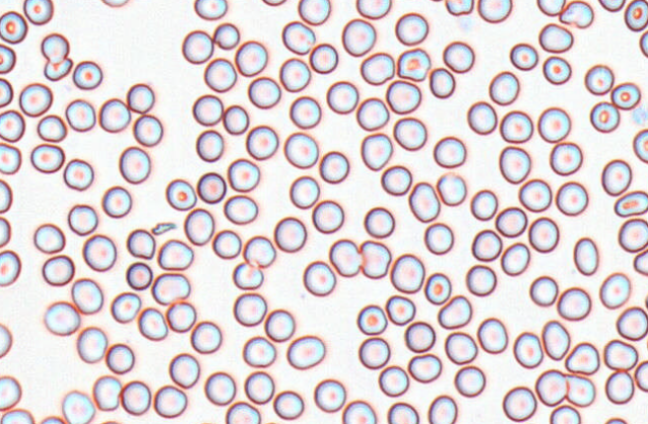RBC: (286, 334, 325, 369), (390, 253, 424, 293), (341, 18, 376, 56), (408, 181, 440, 222), (283, 131, 318, 168), (151, 272, 190, 305), (44, 300, 80, 335), (385, 79, 421, 114), (502, 385, 536, 422), (82, 234, 116, 271), (537, 106, 571, 143), (534, 368, 567, 406), (328, 238, 361, 276), (498, 145, 531, 183), (118, 145, 150, 184), (437, 294, 472, 329), (556, 286, 591, 321), (302, 260, 336, 296), (359, 240, 391, 278), (360, 132, 392, 170), (564, 341, 599, 375), (203, 57, 237, 92), (359, 51, 394, 85), (18, 82, 52, 117), (541, 319, 570, 360), (273, 216, 306, 252), (245, 124, 278, 160), (234, 40, 267, 76), (71, 277, 103, 314), (183, 207, 214, 245), (601, 158, 632, 196), (153, 384, 187, 418), (233, 292, 267, 326), (396, 47, 430, 81), (281, 20, 315, 54), (518, 178, 552, 212), (603, 338, 638, 371), (356, 96, 389, 131), (555, 181, 588, 216), (476, 317, 508, 353), (157, 238, 193, 270), (76, 326, 107, 363), (599, 272, 630, 309), (61, 390, 95, 423), (311, 199, 344, 233), (394, 12, 428, 45), (499, 110, 533, 143), (227, 158, 260, 192), (393, 116, 426, 150), (247, 76, 281, 109), (549, 141, 582, 175), (615, 306, 647, 341), (181, 29, 213, 64), (98, 97, 130, 132), (168, 352, 199, 388), (528, 216, 559, 252), (513, 331, 543, 368), (444, 331, 477, 364), (243, 235, 276, 268), (433, 135, 466, 168), (242, 335, 276, 367), (313, 378, 345, 412), (204, 371, 236, 405), (326, 80, 358, 114), (289, 95, 321, 129), (120, 380, 151, 415), (538, 22, 573, 53), (488, 70, 519, 105), (279, 57, 310, 92), (358, 336, 390, 369), (442, 40, 474, 73), (466, 100, 497, 134), (223, 194, 258, 224), (617, 217, 647, 252), (92, 375, 121, 411), (403, 320, 435, 352), (453, 365, 485, 397), (363, 206, 395, 238), (42, 254, 74, 286), (264, 308, 295, 341), (471, 228, 502, 261), (190, 320, 221, 353), (132, 113, 163, 146), (101, 185, 132, 218), (407, 353, 441, 383), (436, 172, 466, 206), (244, 370, 274, 404), (604, 370, 634, 404), (289, 175, 319, 209), (500, 242, 530, 276), (30, 143, 64, 173), (65, 98, 95, 132), (573, 236, 599, 275), (378, 365, 409, 397), (165, 300, 196, 332), (465, 264, 496, 296), (110, 291, 141, 323), (380, 164, 412, 195), (165, 178, 196, 210), (495, 206, 527, 237), (67, 203, 98, 235), (192, 94, 223, 126), (589, 101, 620, 133), (565, 374, 595, 407), (137, 307, 167, 340), (319, 150, 349, 183), (356, 304, 387, 335), (423, 222, 453, 254), (196, 171, 226, 203), (33, 223, 65, 253), (584, 63, 614, 95), (63, 158, 93, 190), (195, 129, 224, 162), (559, 0, 593, 28), (385, 294, 415, 325), (272, 390, 304, 419), (613, 190, 647, 217), (211, 229, 241, 259), (72, 60, 102, 90), (40, 32, 69, 63), (232, 261, 263, 290), (105, 343, 134, 374), (126, 228, 155, 259), (529, 275, 558, 306), (309, 42, 338, 73), (610, 81, 641, 110), (470, 188, 498, 220), (0, 10, 27, 43), (427, 394, 457, 423), (126, 82, 154, 113), (424, 272, 451, 304), (542, 55, 571, 84), (341, 399, 376, 423), (36, 114, 66, 142), (429, 66, 455, 98), (0, 109, 25, 142), (297, 0, 330, 25), (509, 42, 538, 70), (222, 104, 249, 134), (477, 0, 512, 23), (125, 261, 152, 290), (0, 249, 21, 286), (225, 401, 260, 423), (212, 22, 239, 50), (23, 0, 53, 25), (0, 375, 21, 410), (624, 0, 647, 31), (386, 401, 418, 423), (355, 0, 391, 19), (193, 0, 227, 20), (0, 142, 21, 174), (549, 404, 580, 423), (632, 128, 647, 163), (0, 408, 34, 423), (0, 43, 16, 73), (536, 0, 565, 16), (444, 0, 473, 15), (634, 359, 647, 392), (0, 322, 12, 357), (0, 179, 12, 213), (0, 77, 13, 107), (630, 104, 647, 126), (633, 249, 647, 275), (0, 216, 11, 247), (598, 0, 625, 12), (639, 29, 647, 57), (100, 0, 129, 7), (40, 415, 65, 423), (604, 416, 627, 423), (261, 0, 286, 6), (99, 419, 122, 423), (644, 291, 648, 310)
Schistocyte: (44, 59, 73, 81), (152, 221, 176, 235)
